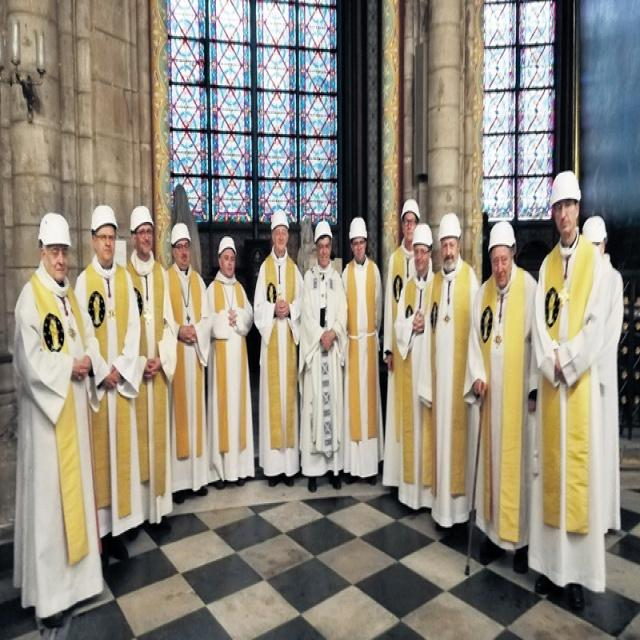helmet: (39, 280, 74, 384), (550, 223, 582, 321), (488, 294, 520, 390), (89, 269, 120, 356), (437, 281, 462, 363), (129, 273, 155, 348), (412, 296, 434, 365), (169, 292, 191, 359), (349, 287, 371, 352), (400, 262, 422, 326), (314, 289, 335, 355), (270, 278, 291, 338), (218, 312, 238, 373)
